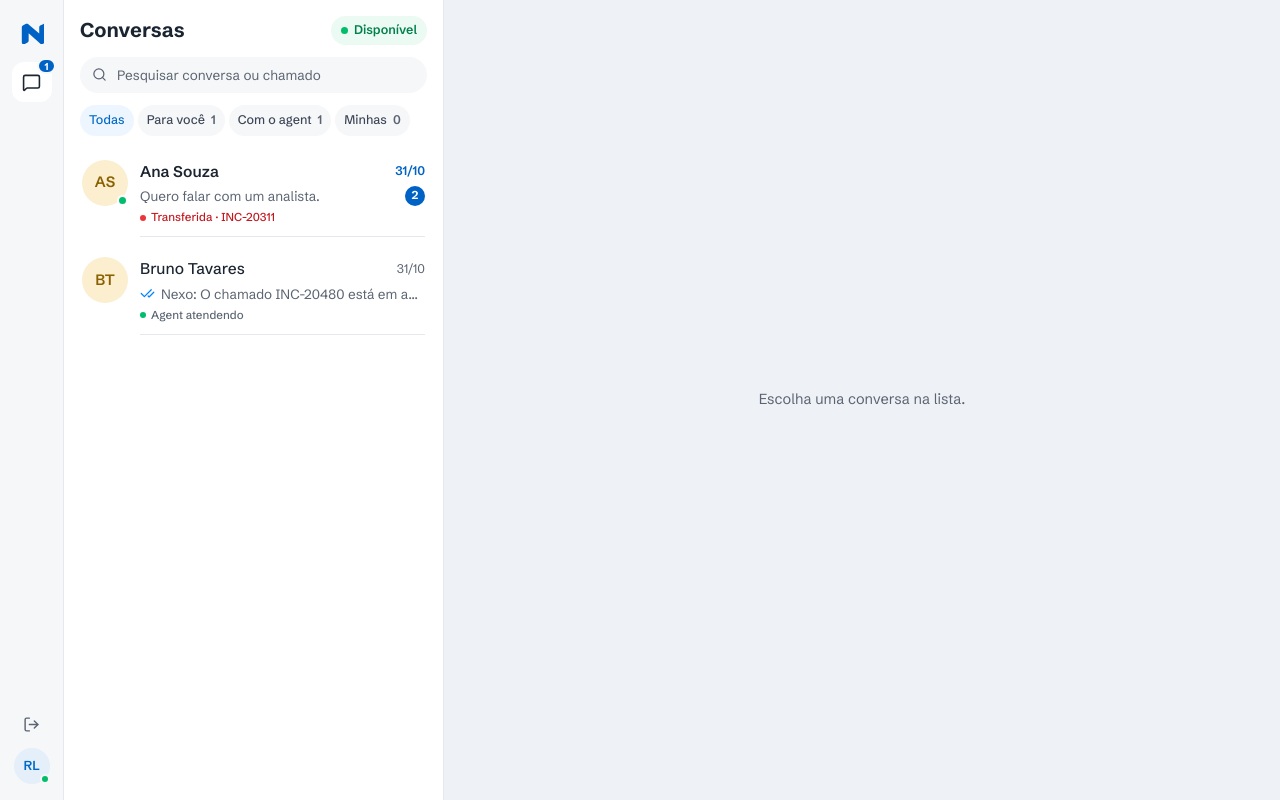
Test: console do analista (tela 4) › as respostas do agent mostram o remetente uma vez, com a etiqueta IA
Click the button "Ana Souza" at (254, 198), box x1=72 y1=150 x2=435 y2=247
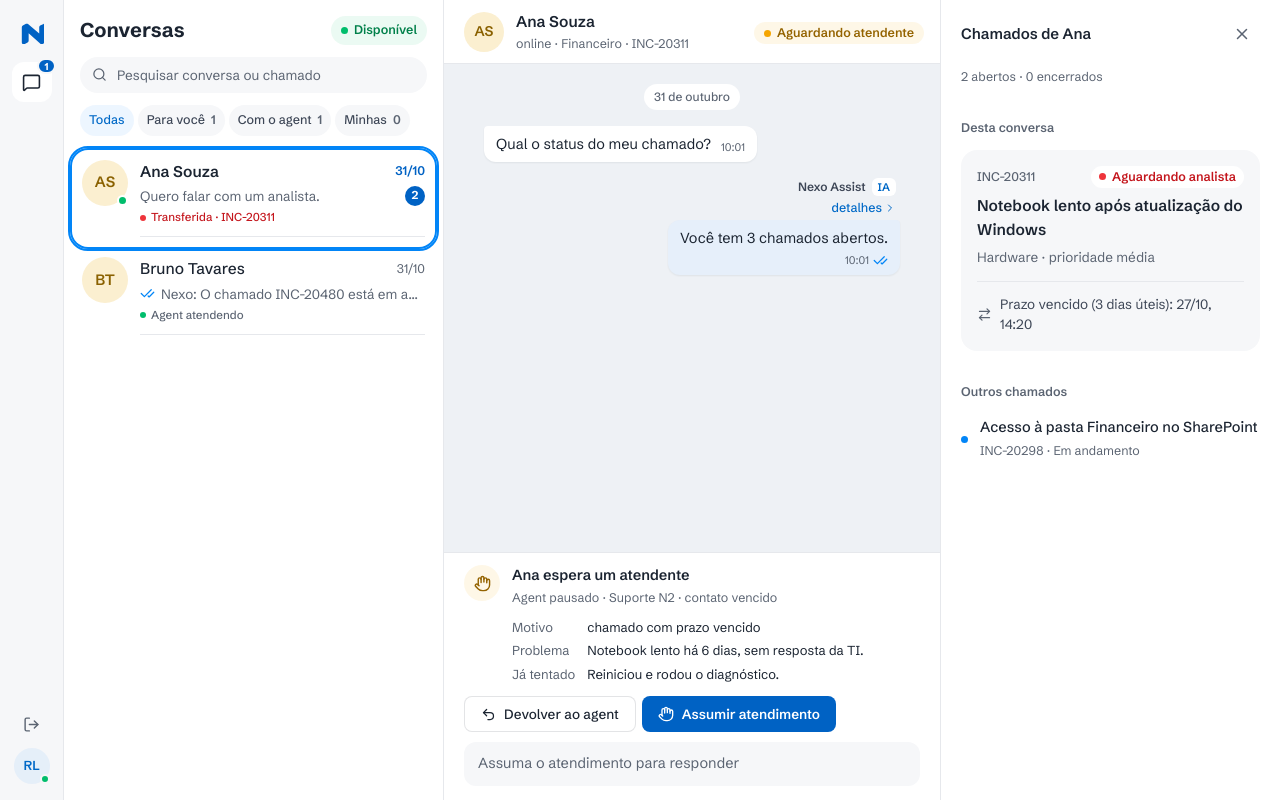
Expected: the text "Nexo Assist" is shown once, x1=794 y1=178 x2=900 y2=196
Expected: the text "IA" is shown, x1=872 y1=178 x2=896 y2=196
